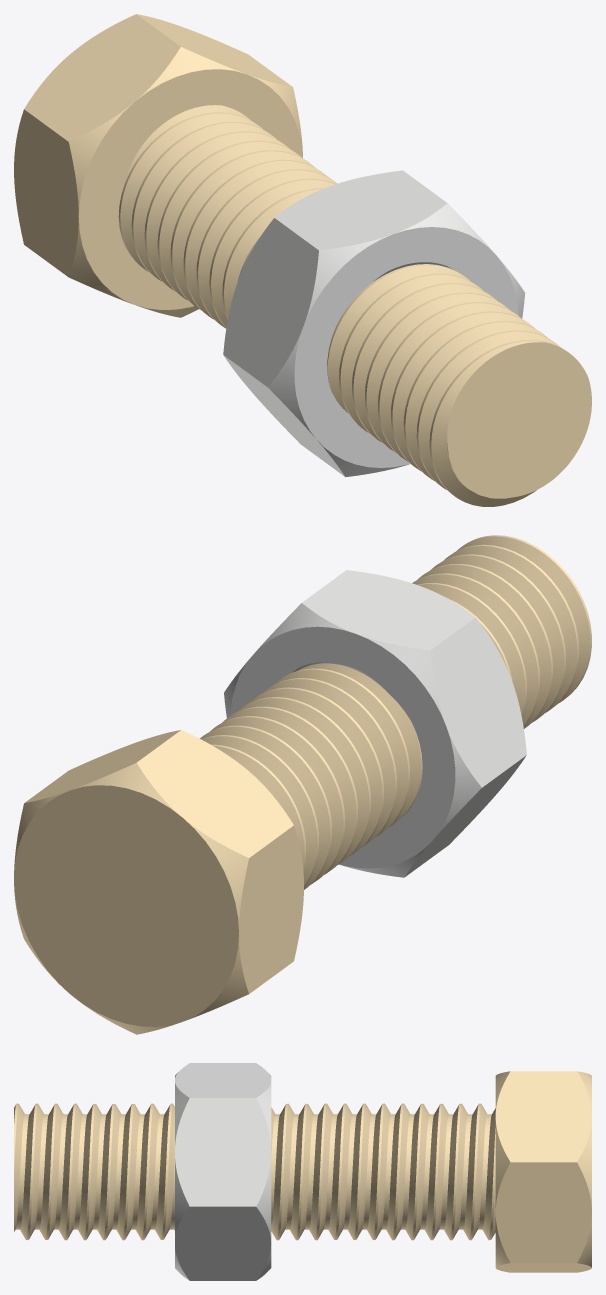
3 views of the same model, one above another, from view 1: azimuth 30°, elevation 25°; view 2: azimuth 150°, elevation 25°; view 3: azimuth 270°, elevation 25° (orthographic). The views are drawn at different scales.
Parts seen in each view (by area): view 1: bolt-1, nut-1; view 2: bolt-1, nut-1; view 3: bolt-1, nut-1.
Part boxes in pixels (<box>): bolt-1: <box>14,14,591,506</box>; nut-1: <box>223,170,525,477</box>; bolt-1: <box>14,535,591,1034</box>; nut-1: <box>224,570,526,877</box>; bolt-1: <box>14,1071,591,1272</box>; nut-1: <box>175,1063,271,1280</box>.
Bounding box in the file's own units: 0.0115 × 0.0115 × 0.03.
